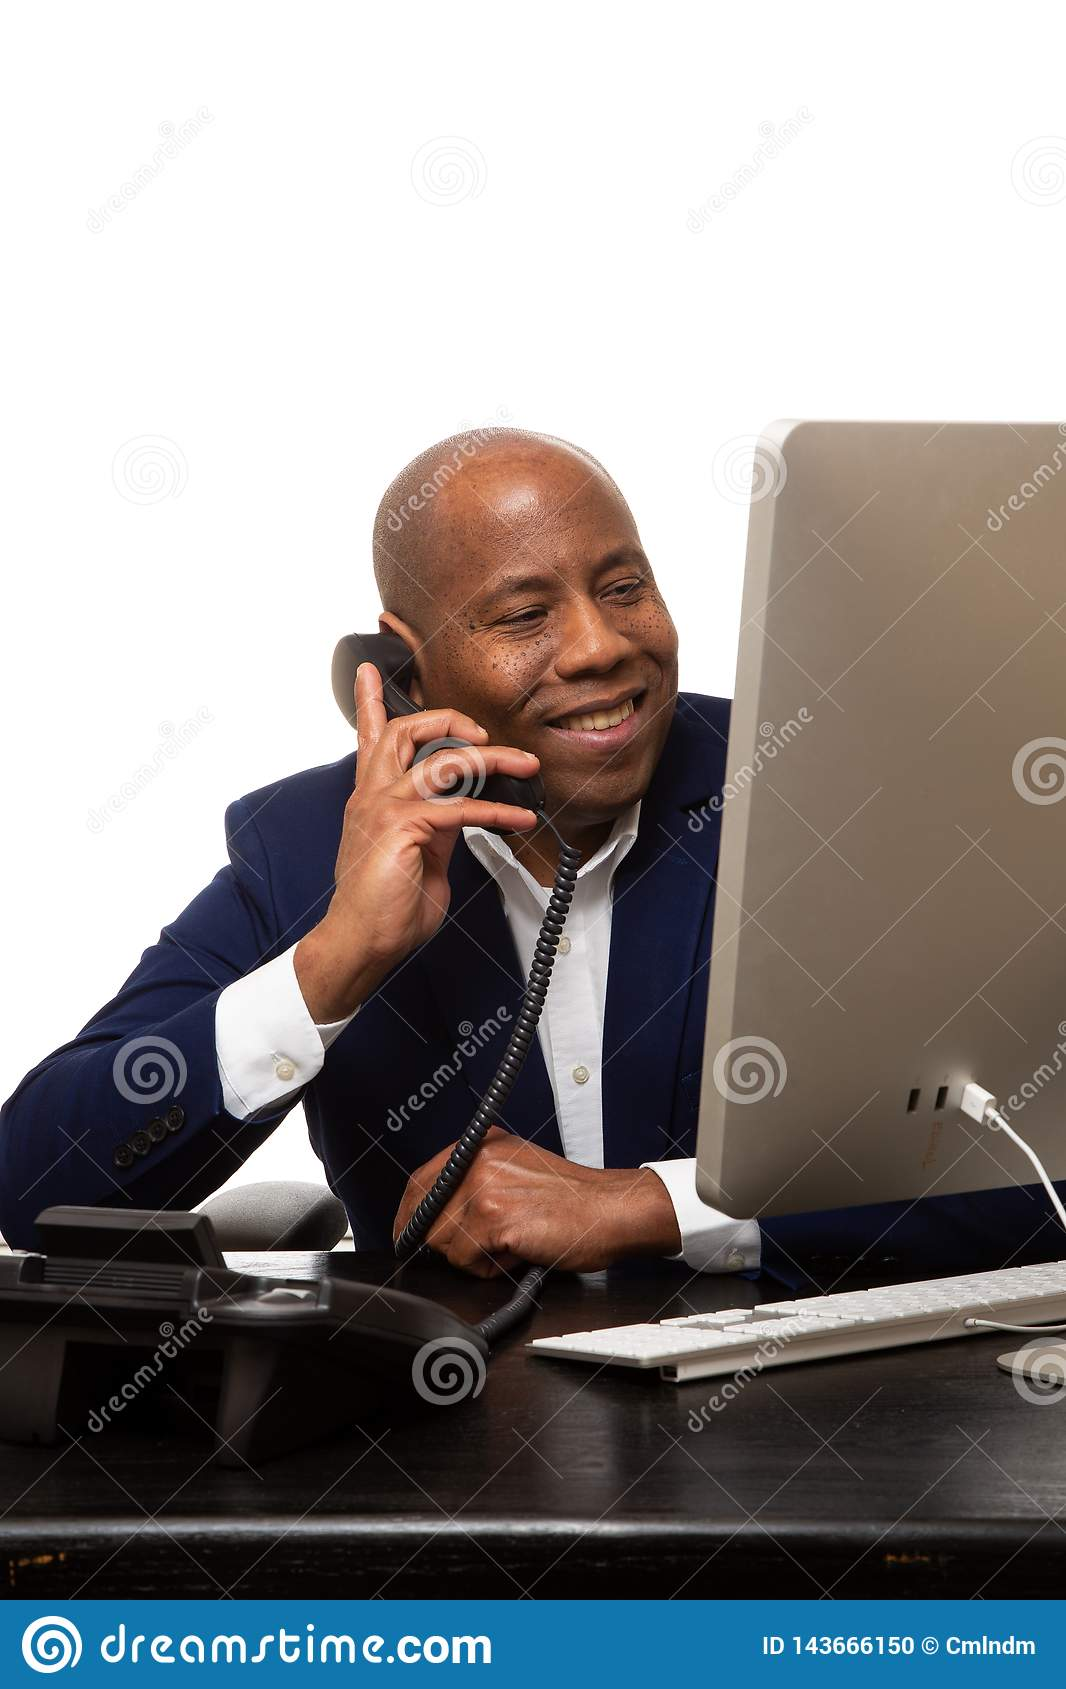phone: (337, 608, 486, 825)
talk: (329, 525, 679, 1008)
